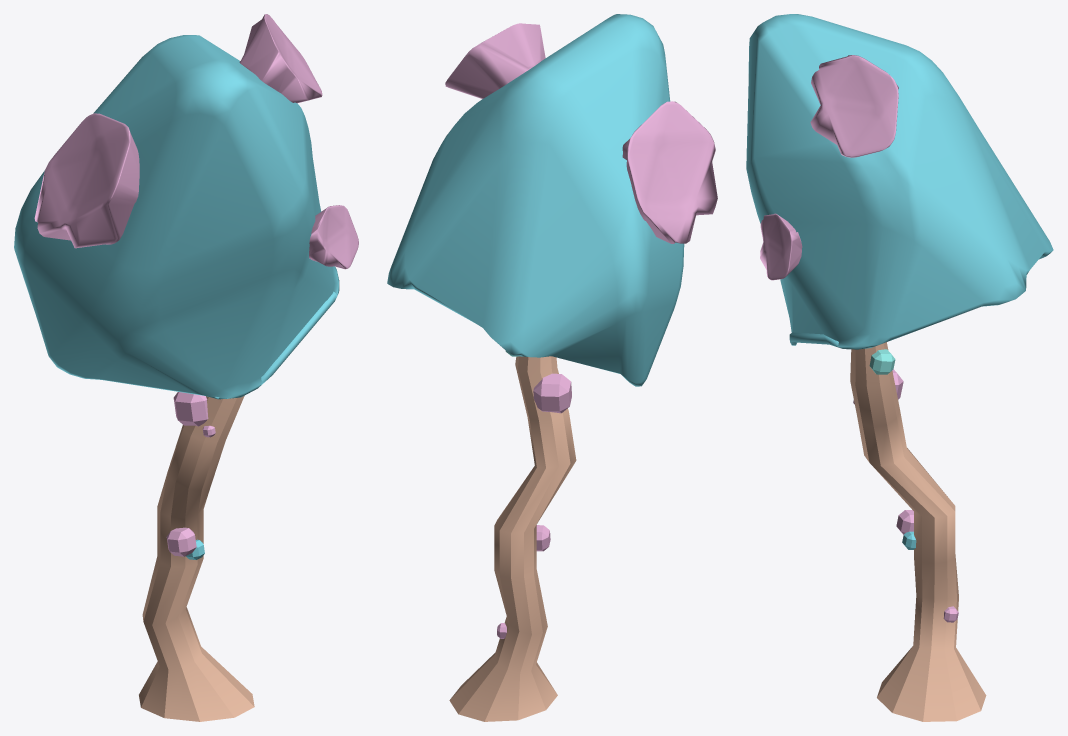
The model's file is Mush12.fbx.
3 views of the same model, side by side, from view 1: azimuth 30°, elevation 25°; view 2: azimuth 150°, elevation 25°; view 3: azimuth 270°, elevation 25° (orthographic). The views are drawn at different scales.
Parts seen in each view (by area): view 1: pasted__pasted__pasted__group14_pasted__pasted__pasted__past; view 2: pasted__pasted__pasted__group14_pasted__pasted__pasted__past; view 3: pasted__pasted__pasted__group14_pasted__pasted__pasted__past.
Part boxes in pixels (x1,y1,x2,y2): pasted__pasted__pasted__group14_pasted__pasted__pasted__past: (14, 14, 358, 721); pasted__pasted__pasted__group14_pasted__pasted__pasted__past: (387, 14, 717, 721); pasted__pasted__pasted__group14_pasted__pasted__pasted__past: (746, 14, 1053, 721).
Size of the model in its own units: 2.96 by 6.97 by 2.95.
